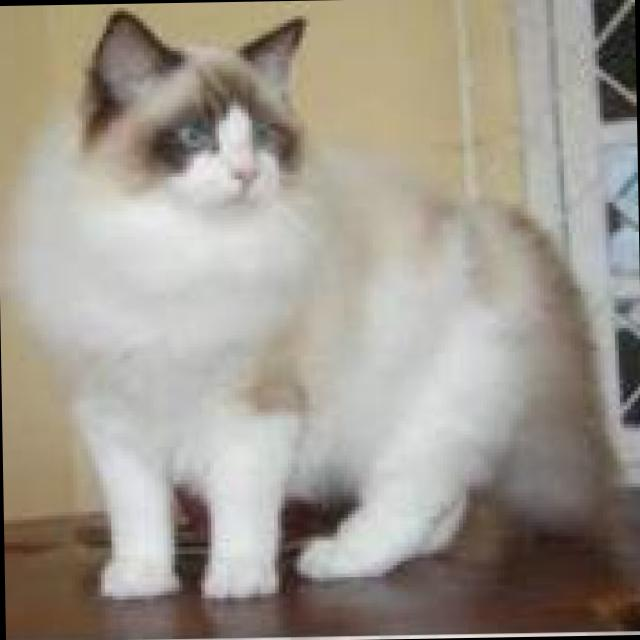Gato: (0, 0, 637, 604)
